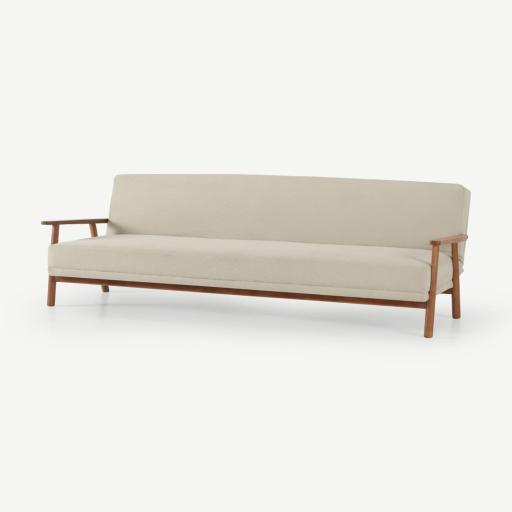back_cushion: (107, 174, 469, 249)
left_arm: (47, 276, 435, 338), (430, 234, 468, 246)
legs: (47, 276, 436, 337), (443, 244, 459, 318)
right_arm: (42, 218, 108, 244)
seat_cushion: (49, 234, 431, 302)
two-seater: (0, 0, 511, 512)
